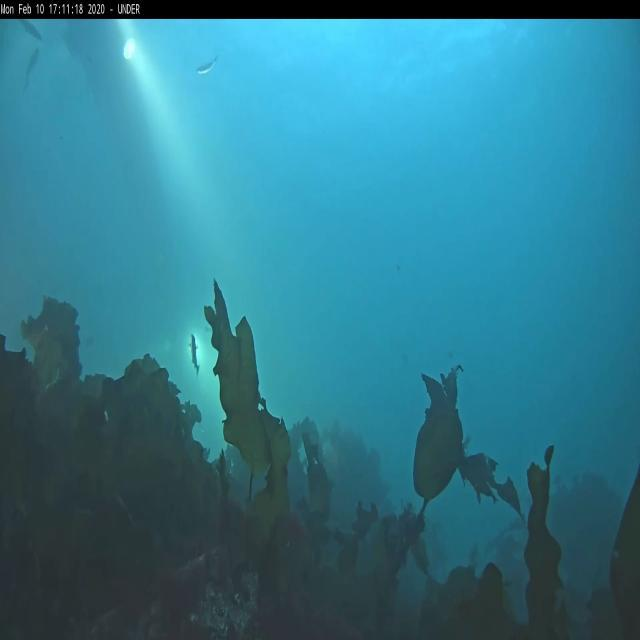fish: (24, 46, 40, 90), (18, 20, 42, 42), (188, 334, 200, 378), (196, 55, 218, 74)
